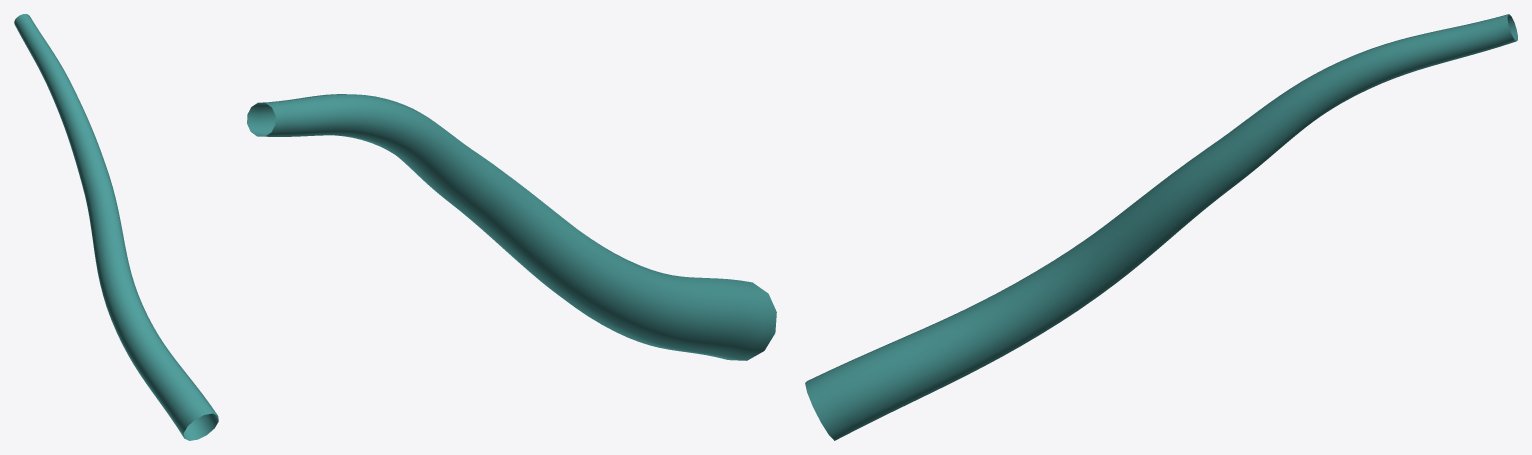
3 views of the same model, side by side, from view 1: azimuth 30°, elevation 25°; view 2: azimuth 150°, elevation 25°; view 3: azimuth 270°, elevation 25° (orthographic). The views are drawn at different scales.
Visible parts, largest first — view 1: 左肺后底段支气管（第10段）; view 2: 左肺后底段支气管（第10段）; view 3: 左肺后底段支气管（第10段）.
Boxes of the visible parts, x1,y1,x2,y2 form: 左肺后底段支气管（第10段）: [14, 14, 218, 440]; 左肺后底段支气管（第10段）: [247, 94, 776, 360]; 左肺后底段支气管（第10段）: [805, 14, 1517, 440].
Size of the model in its own units: 0.0175 by 0.0754 by 0.1091.
